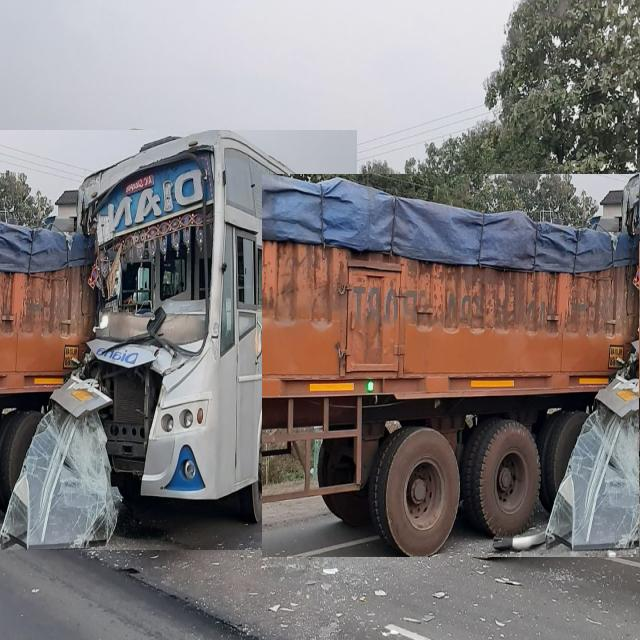accident: (0, 130, 357, 550)
truck: (262, 174, 640, 557)
